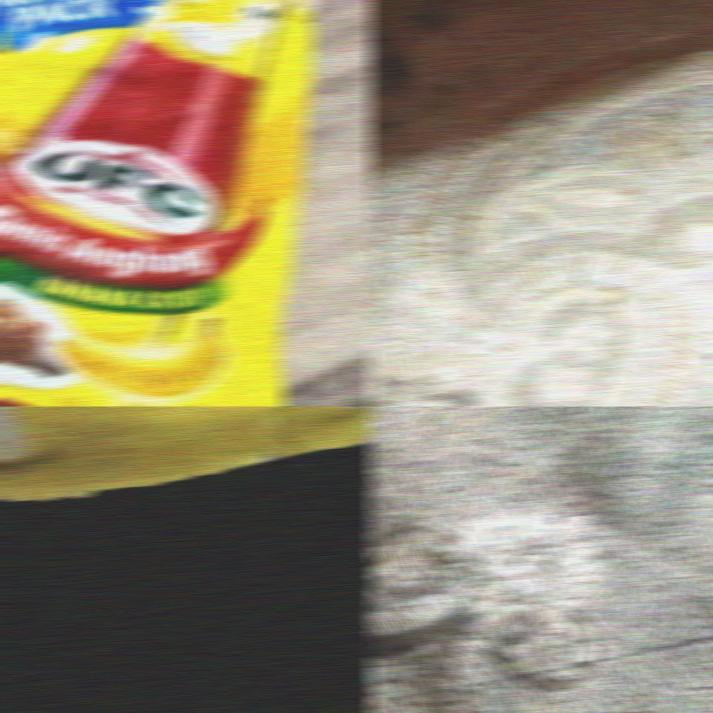Moby Caramel: (0, 406, 373, 501)
ketchup UFC: (0, 0, 373, 406)
